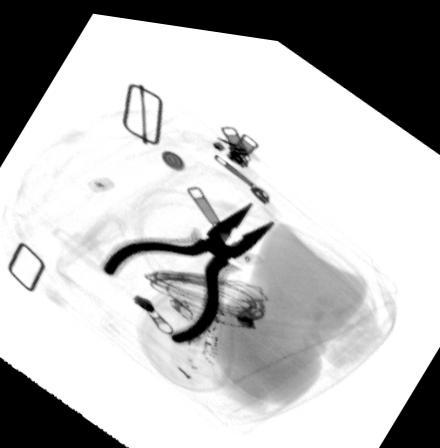Pliers: (98, 192, 277, 339)
